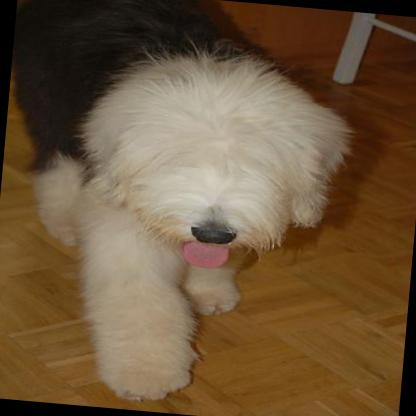Old_English_sheepdog: (0, 0, 360, 416)
